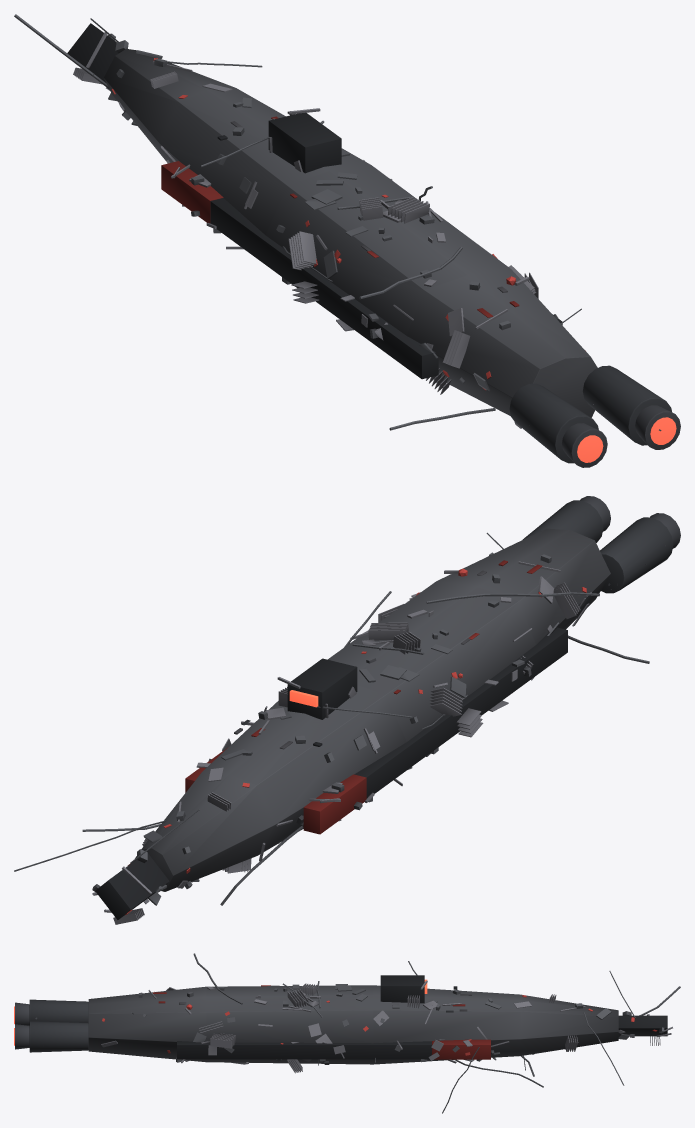
The model's file is capital_kraken.glb.
The picture shows the model from 3 angles, top to bottom: view 1: azimuth 30°, elevation 25°; view 2: azimuth 150°, elevation 25°; view 3: azimuth 270°, elevation 25°; orthographic projection. The views are drawn at different scales.
Parts seen in each view (by area): view 1: CorvetteHull, SUB_engine_L, SUB_engine_R; view 2: CorvetteHull, SUB_engine_L, SUB_engine_R; view 3: CorvetteHull, SUB_engine_R, SUB_engine_L.
Part boxes in pixels (x1,y1,x2,y2): CorvetteHull: [14, 14, 597, 430]; SUB_engine_L: [509, 383, 607, 467]; SUB_engine_R: [582, 365, 680, 449]; CorvetteHull: [14, 528, 649, 924]; SUB_engine_L: [600, 513, 680, 593]; SUB_engine_R: [522, 496, 610, 542]; CorvetteHull: [88, 953, 680, 1113]; SUB_engine_R: [14, 1021, 88, 1052]; SUB_engine_L: [14, 999, 88, 1025].
Size of the model in its own units: 19.08 by 13.19 by 67.95.
